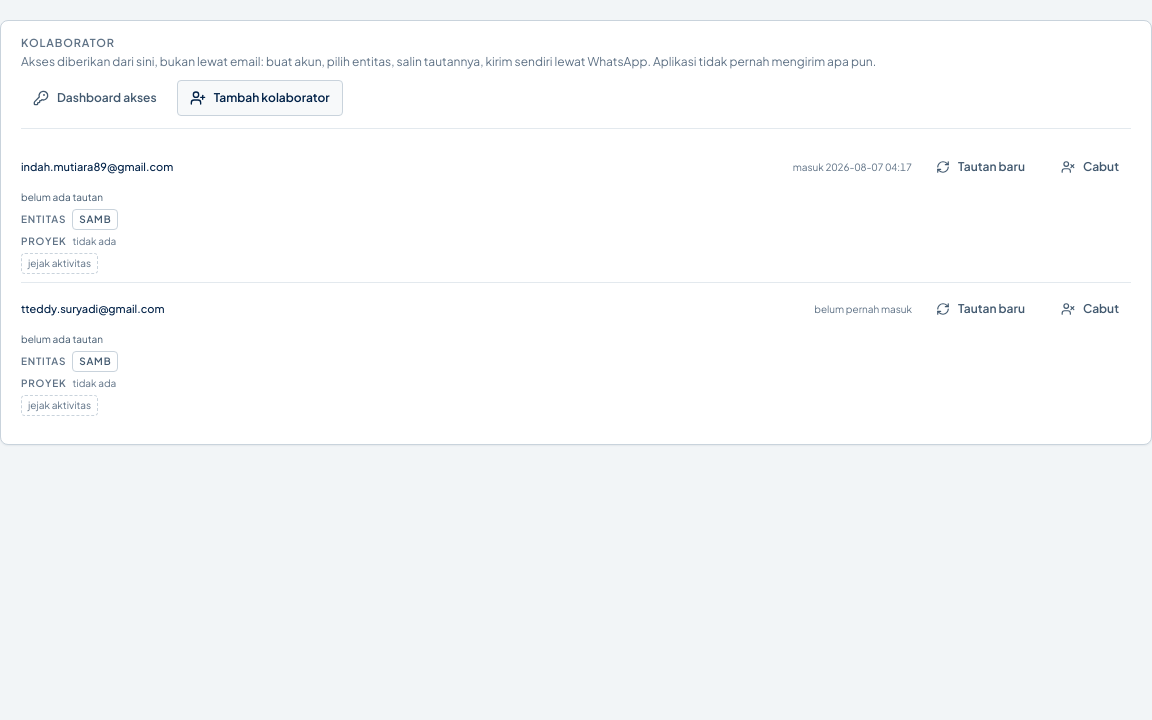
Scenario: the sign-in log table does not exist yet (42P01) › still shows the empty state when the person has done nothing either
Expected: the text "indah.mutiara89@gmail.com" is shown, [21,160,173,173]
Click the button "jejak aktivitas" below "indah.mutiara89@gmail.com".
click(60, 264)  # box [21,253,98,274]
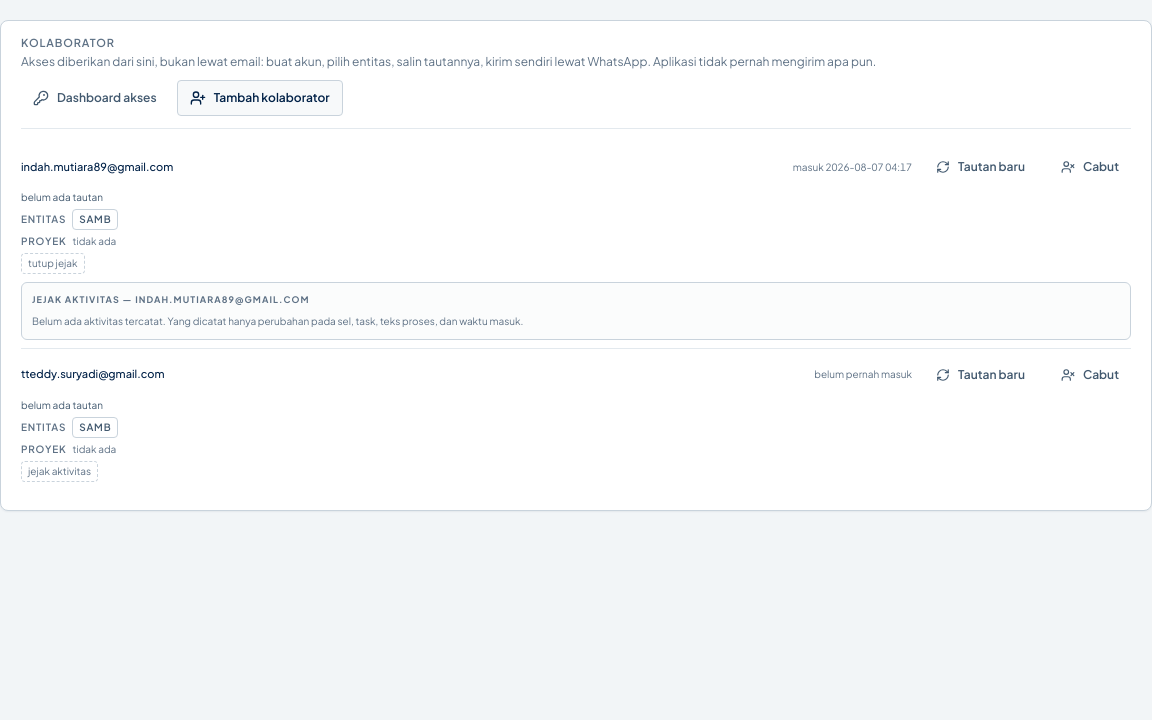
Result: the text "Belum ada aktivitas tercatat" is shown at [32,314,523,326]
